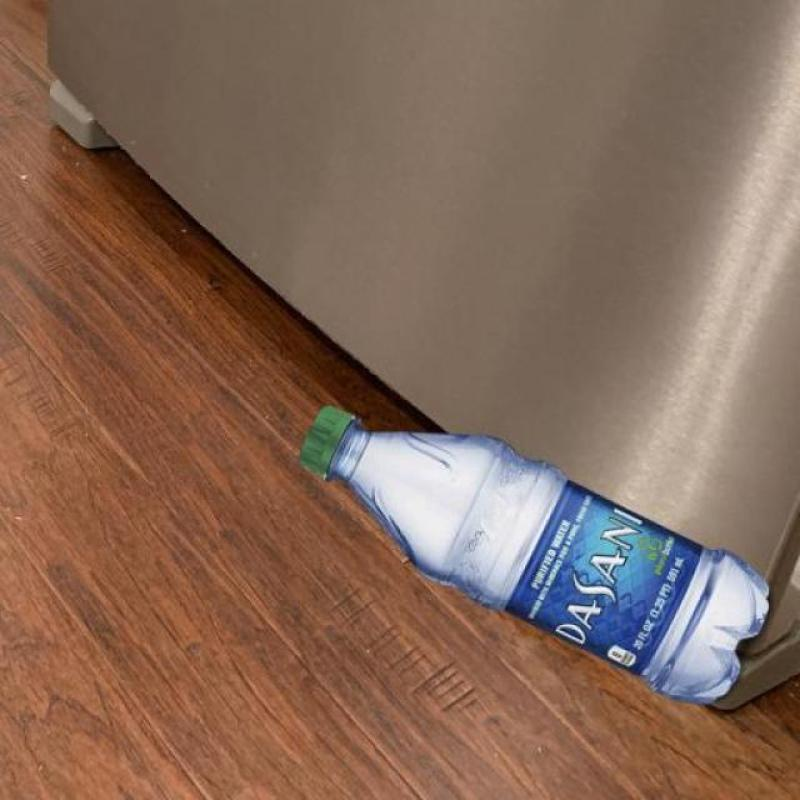botella: (293, 404, 772, 706)
